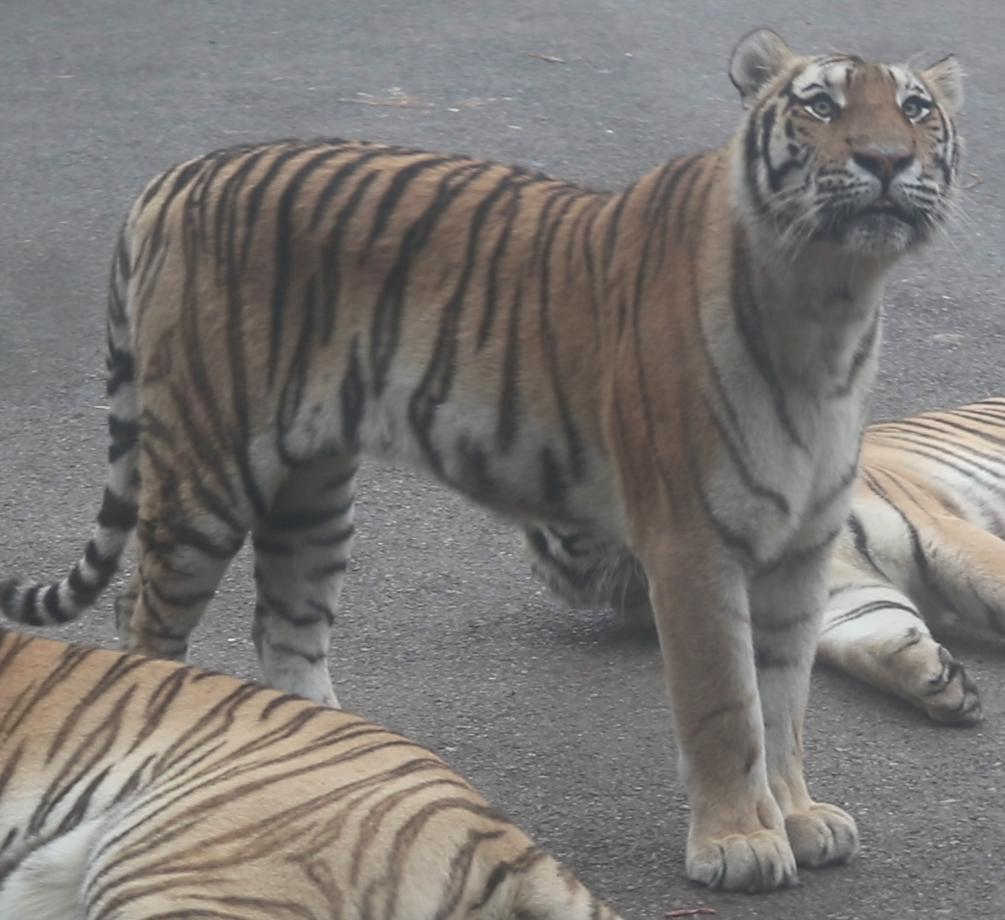tiger: (0, 30, 961, 889)
